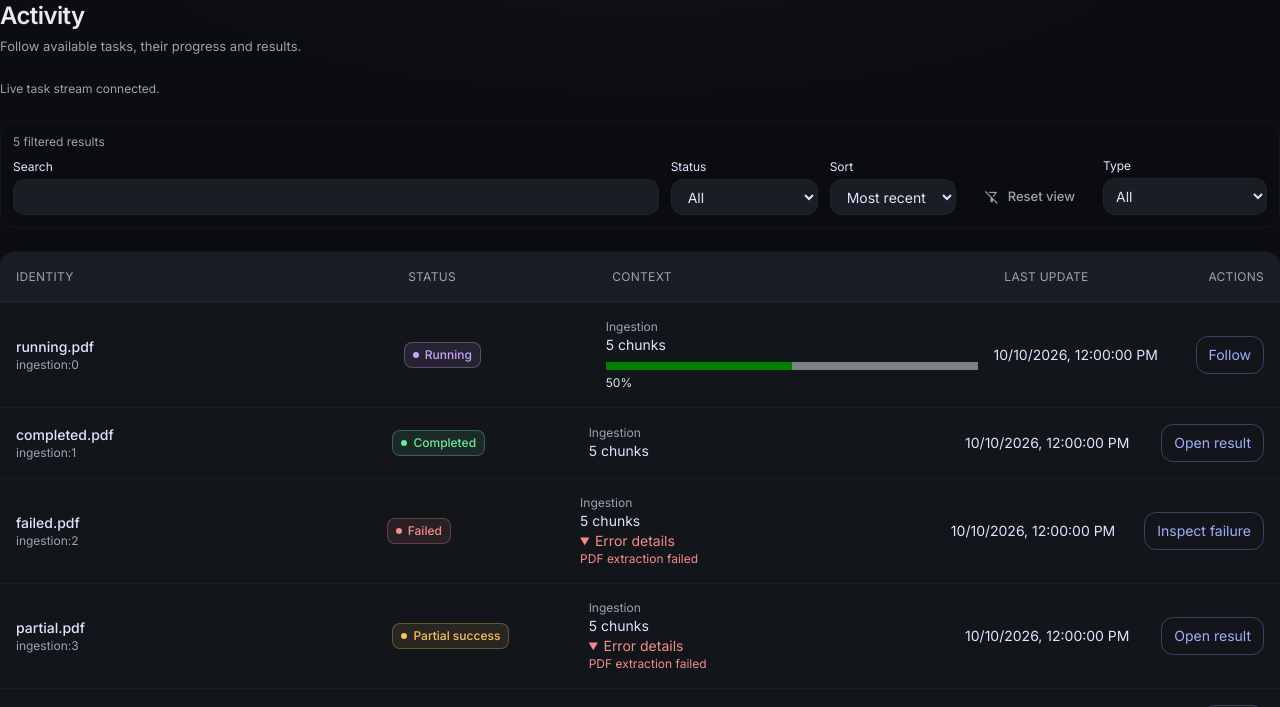
filters by status, family and search, then exposes empty results
Select "Cancelled" in the dropdown labelled "Status" at (744, 197), box [671,179,818,215]
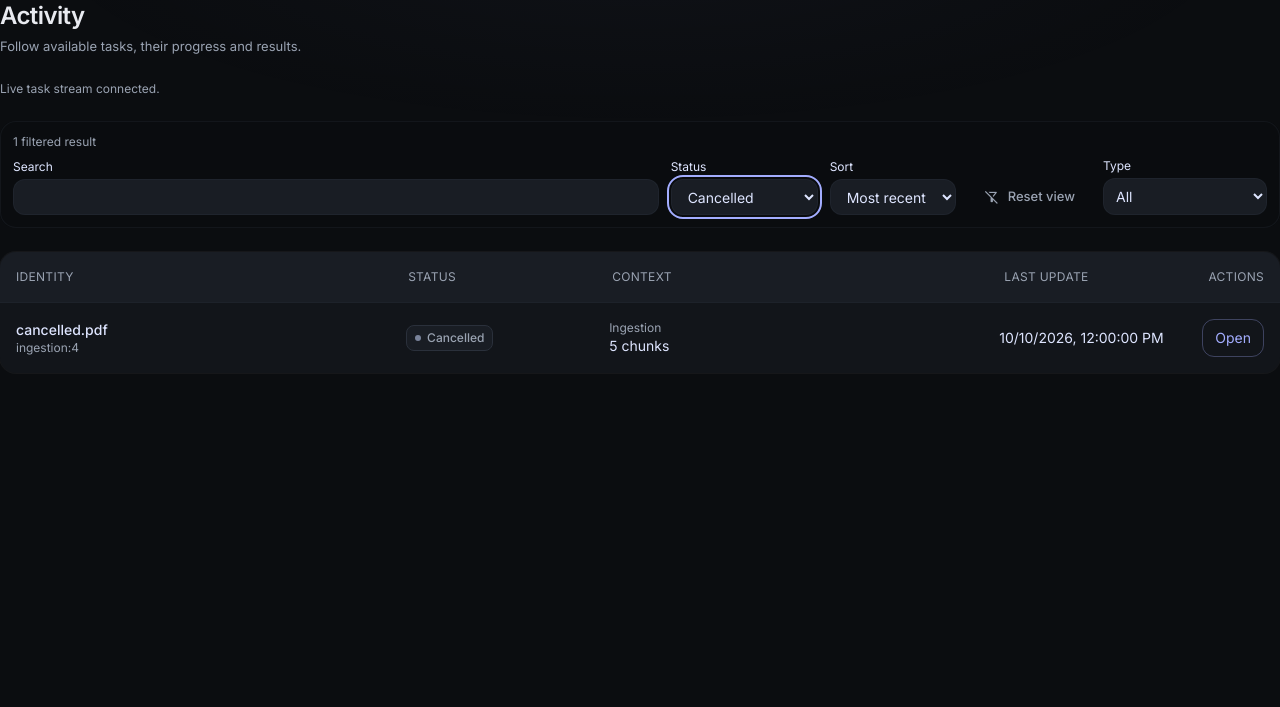
Expected: the text "cancelled.pdf" is shown, [16,321,108,338]
Expected: the text "failed.pdf" is gone
Select "Evaluation" in the dropdown labelled "Type" at (1185, 197), box [1103,178,1267,215]
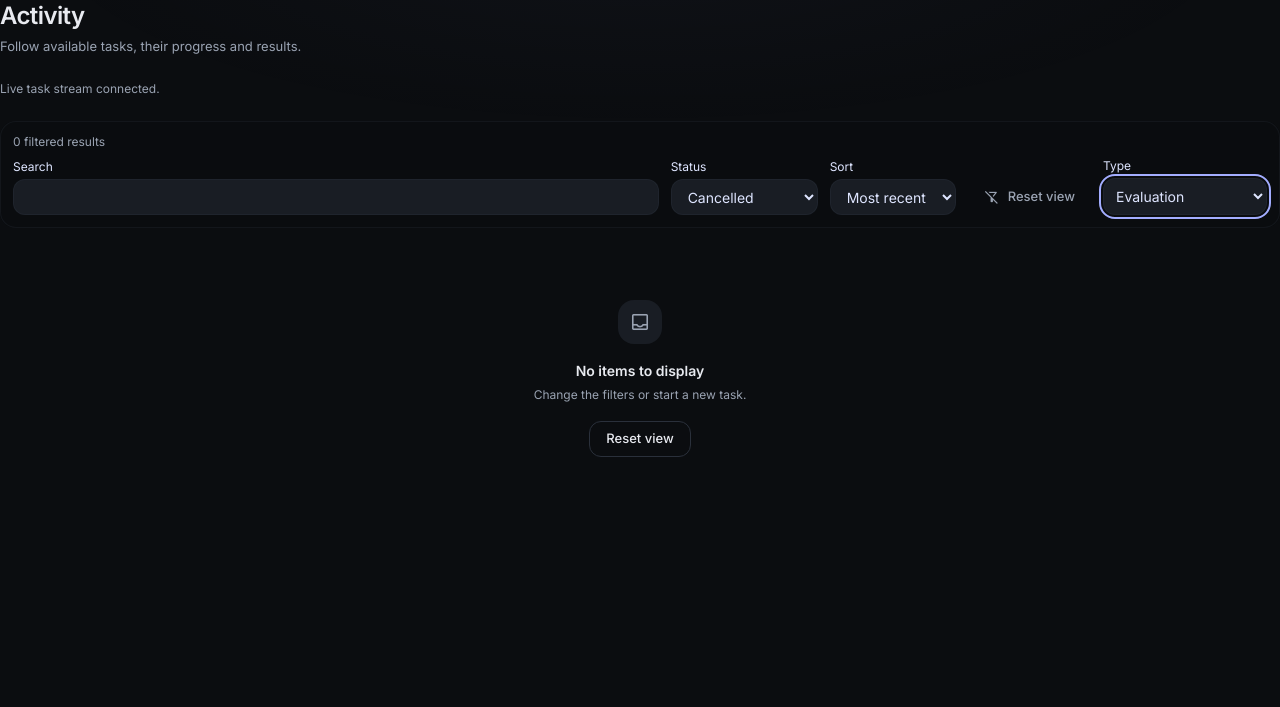
Expected: the heading "No items to display" is shown, [576,360,704,381]
Select "All" in the dropdown labelled "Type" at (1185, 197), box [1103,178,1267,215]
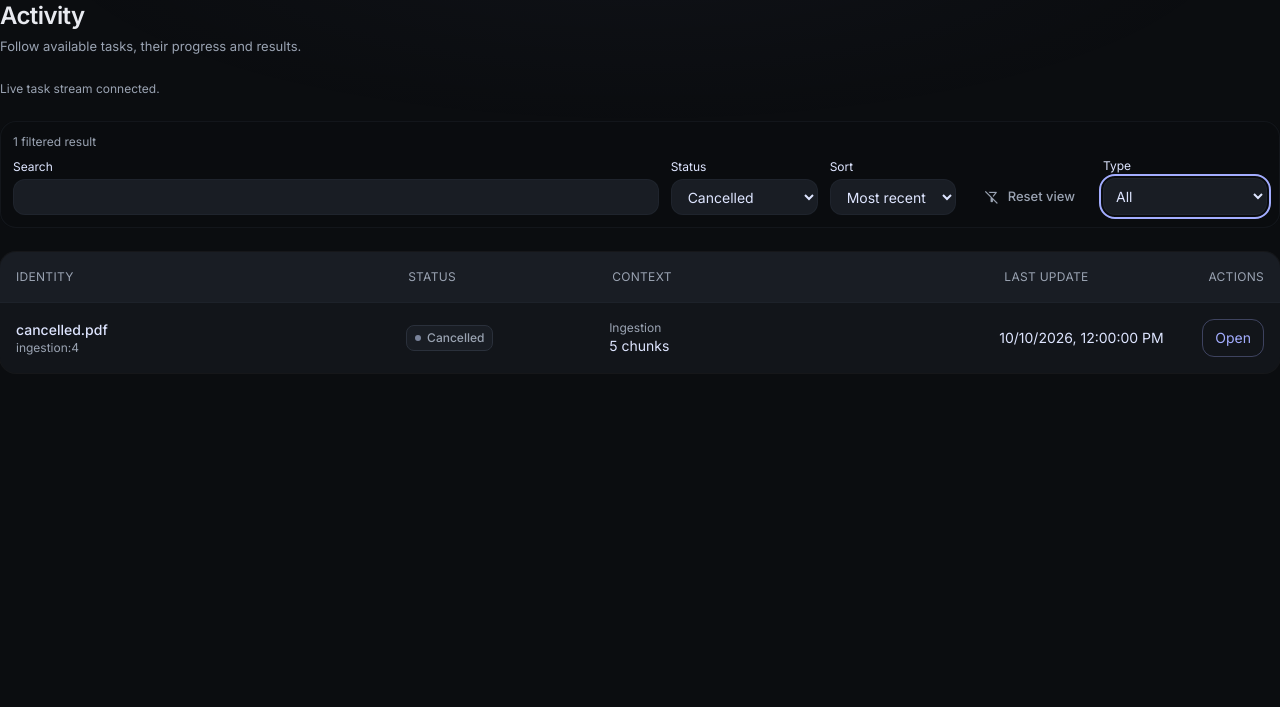
Select "All" in the dropdown labelled "Status" at (744, 197), box [671,179,818,215]
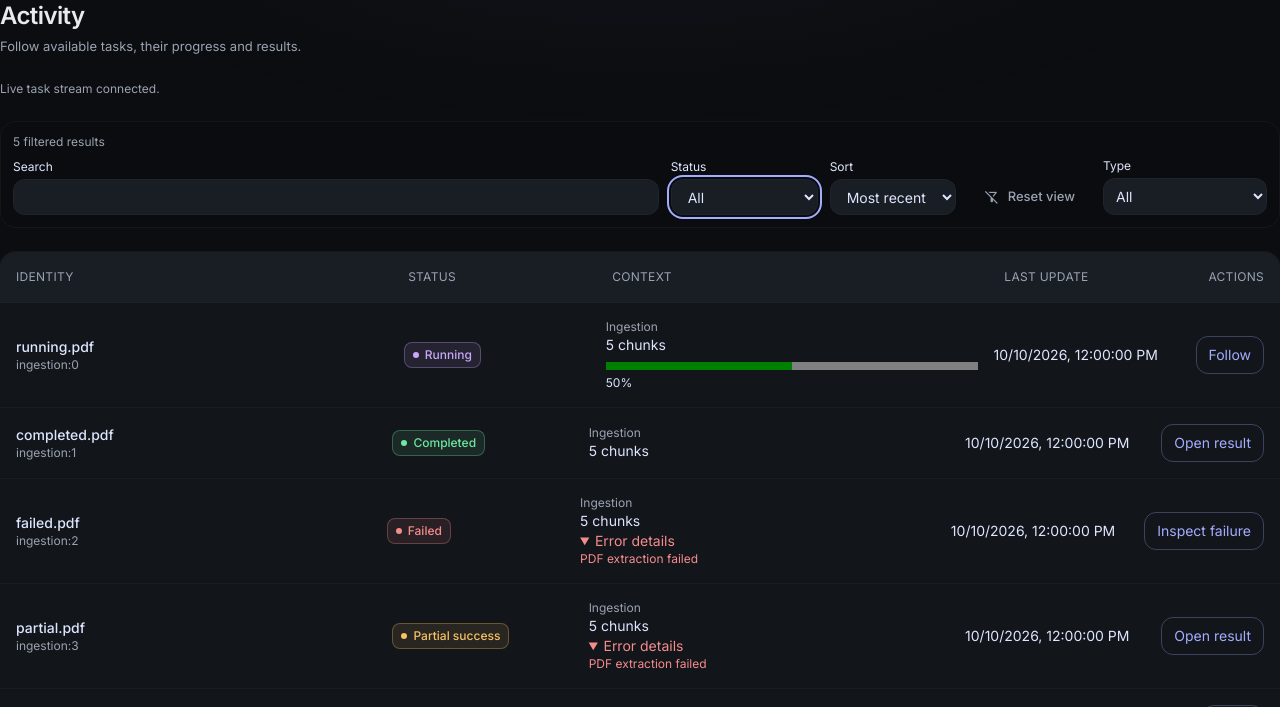
Type "extraction" into the search field labelled "Search" at (336, 197), box [13,179,659,215]
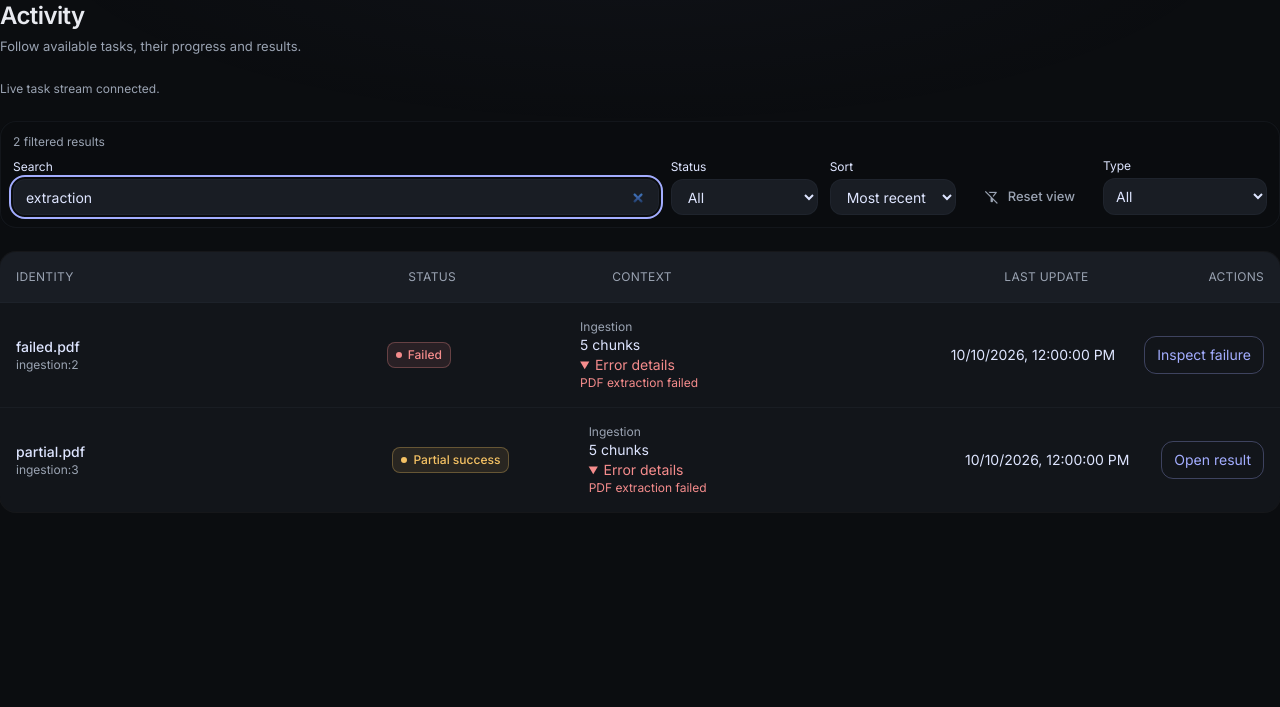
Expected: the number of list items is 2, [0,303,1279,408]; [0,408,1279,512]
